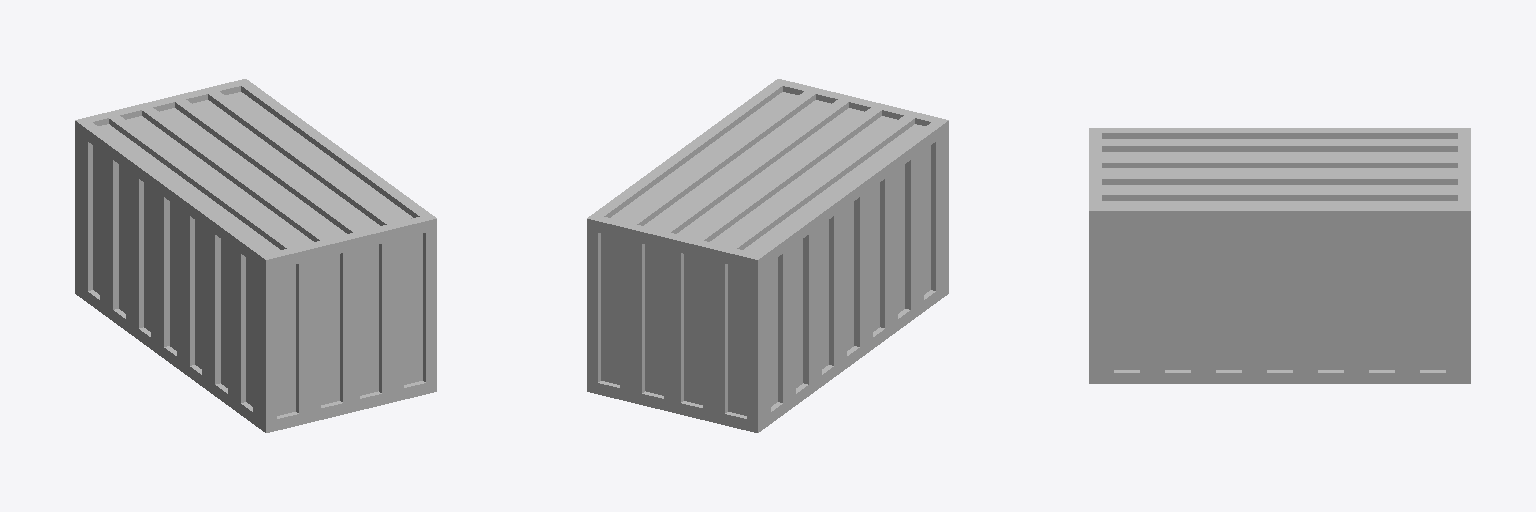
The model's file is Container.obj.
3 views of the same model, side by side, from view 1: azimuth 30°, elevation 25°; view 2: azimuth 150°, elevation 25°; view 3: azimuth 270°, elevation 25° (orthographic).
Visible parts, largest first — view 1: object 1; view 2: object 1; view 3: object 1.
Part boxes in pixels (x1,y1,x2,y2): object 1: (75,79,436,432); object 1: (587,79,948,432); object 1: (1089,128,1470,383).
Bounding box in the file's own units: 3.1 × 3 × 6.